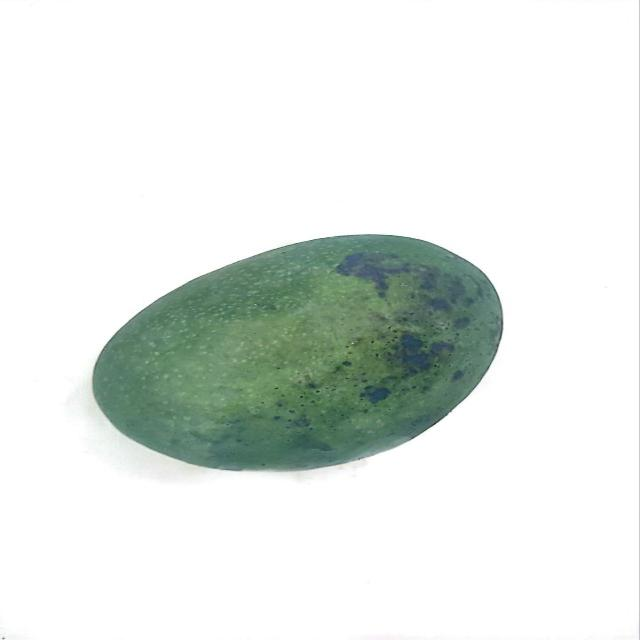rotten_mango: (75, 231, 511, 473)
